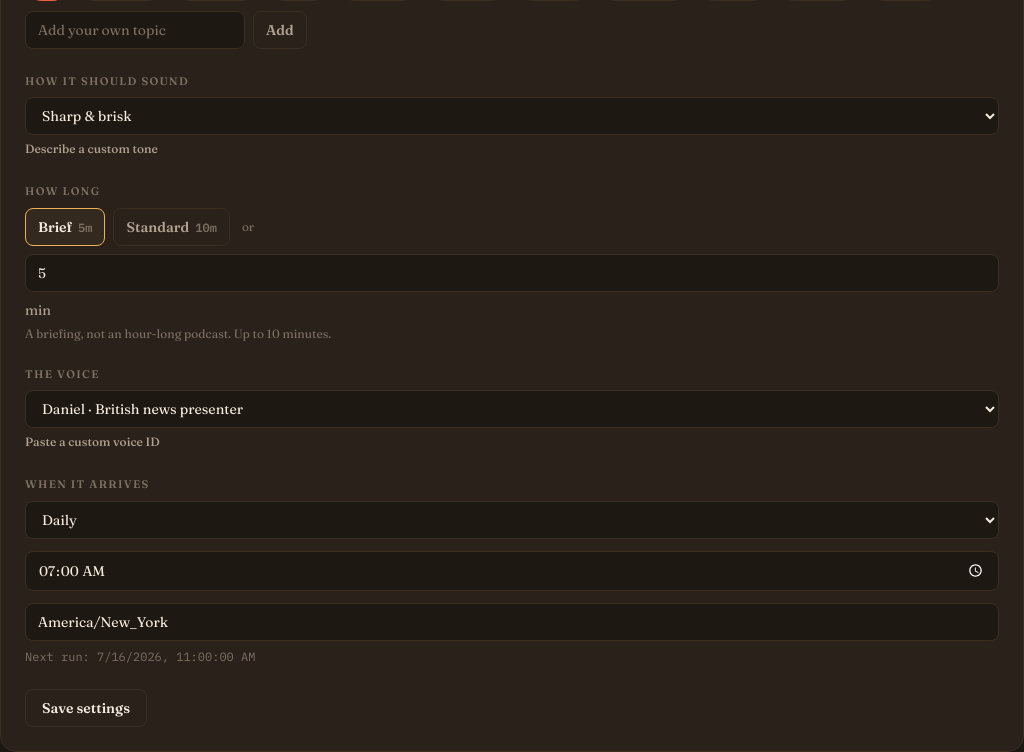
Test: PreferencesForm save failure › surfaces a rejected save instead of failing silently
(page scrolled)
Step 1. Click the button "Save settings" → click(86, 708), box [25,688,147,726]
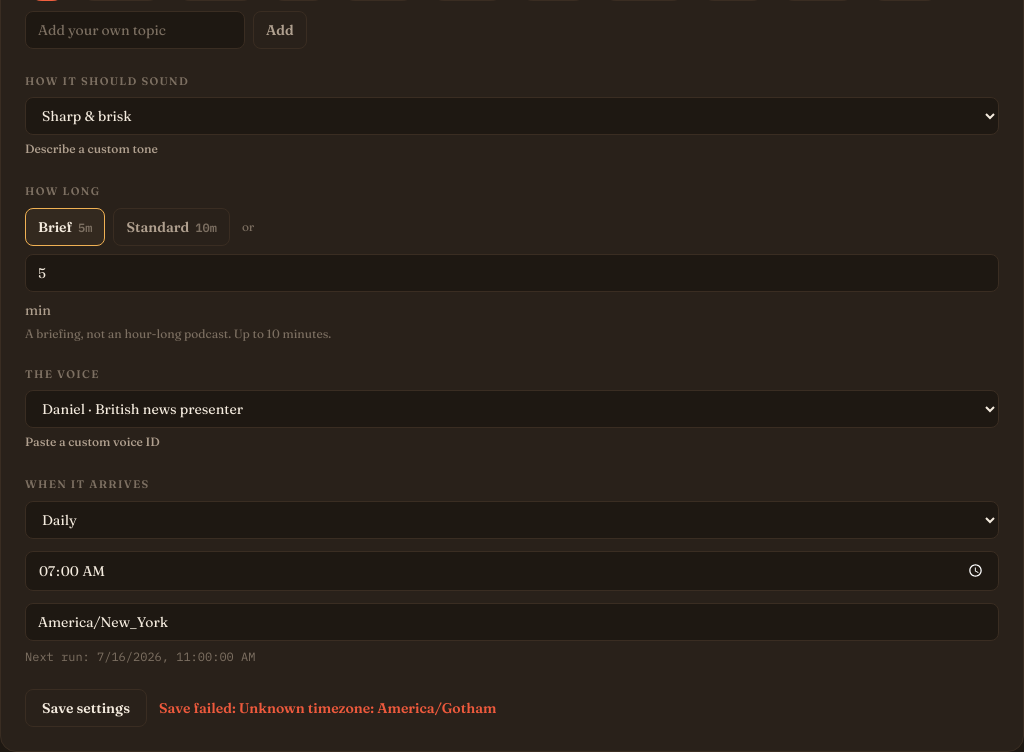
Expected: the text "Save failed: Unknown timezone: America/Gotham" is shown, [159,698,496,718]
